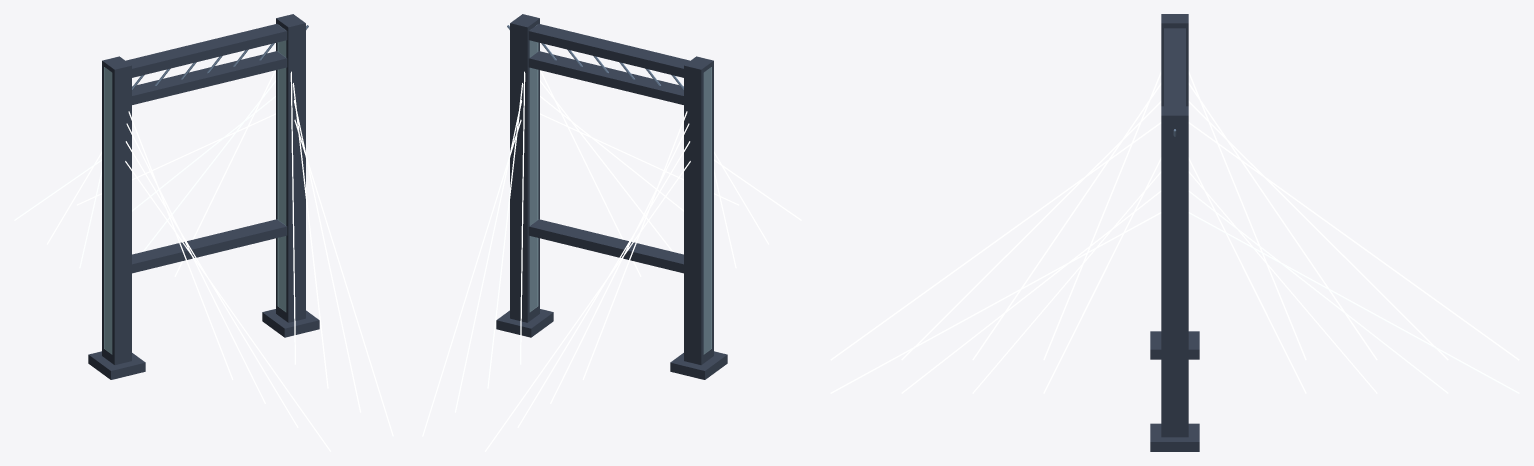
Rendered from shuto_bridge_pylon.glb.
3 renders of one model, left to right at view 1: azimuth 30°, elevation 25°; view 2: azimuth 150°, elevation 25°; view 3: azimuth 270°, elevation 25°, orthographic. The views are drawn at different scales.
Parts seen in each view (by area): view 1: PylonConcreteMat, StayCablesMat; view 2: PylonConcreteMat, StayCablesMat; view 3: PylonConcreteMat, StayCablesMat.
Boxes of the visible parts, box(x1,y1,x2,y2) form: PylonConcreteMat: box(88, 14, 319, 379); StayCablesMat: box(14, 41, 393, 451); PylonConcreteMat: box(496, 14, 727, 379); StayCablesMat: box(422, 41, 801, 451); PylonConcreteMat: box(1150, 14, 1199, 451); StayCablesMat: box(830, 70, 1519, 393).
Bounding box in the file's own units: 48.15 × 67 × 126.
